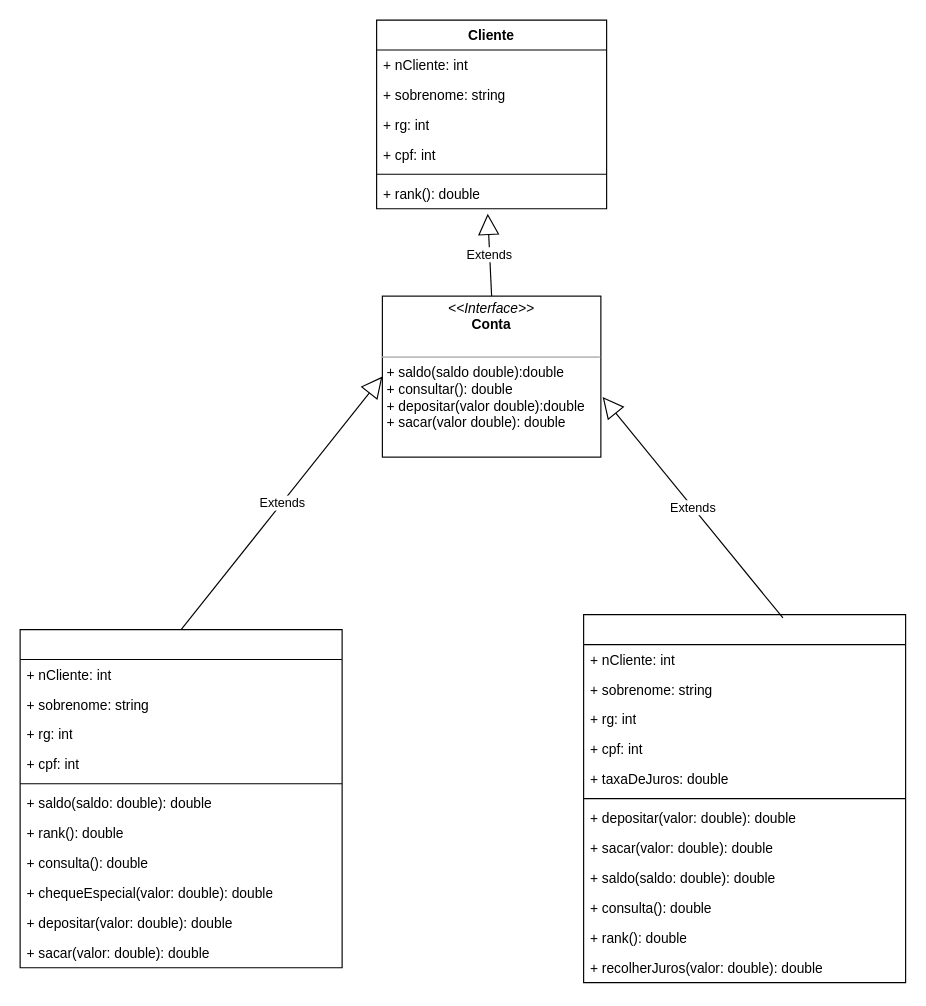
Image size: 926x1006. Some labels were removed from this diagram. Each missing label, with the box of its shape:
ContaCorrente: (19, 628, 342, 968)
ContaPoupança: (582, 614, 906, 983)
